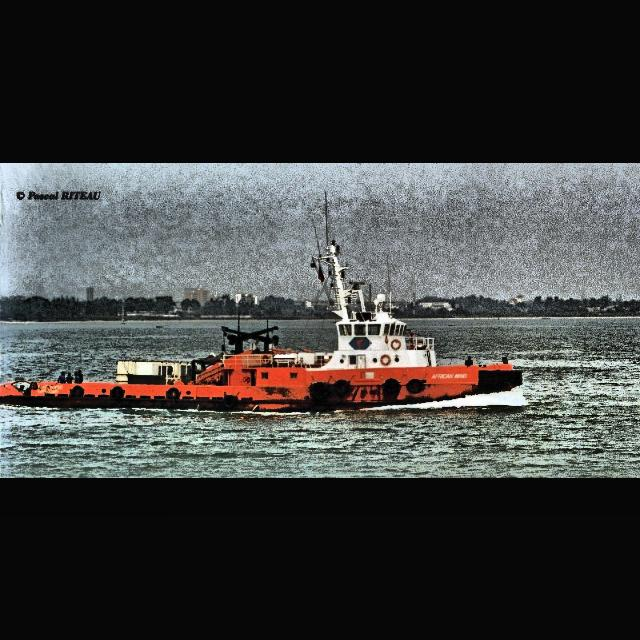anchor_handling_tug_supply: (0, 283, 530, 415)
